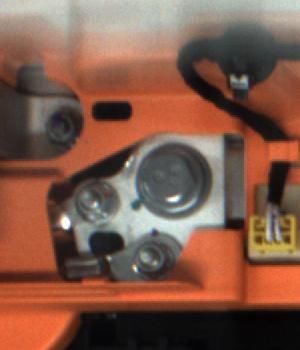nut_b: (135, 138, 212, 213)
